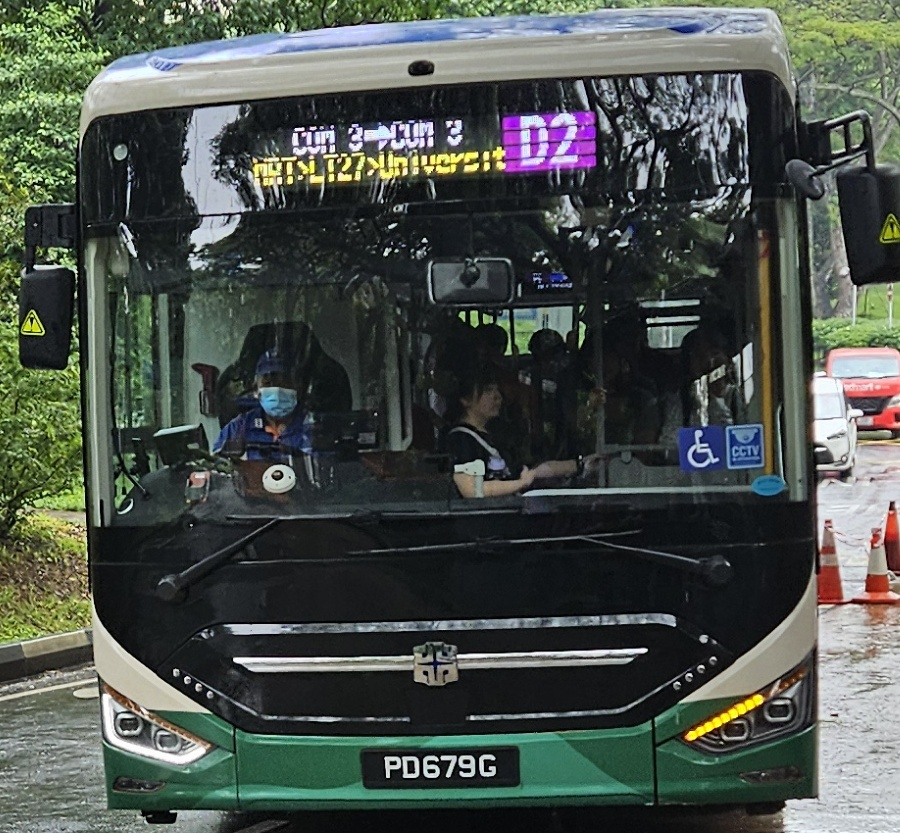bus: (498, 106, 596, 178)
